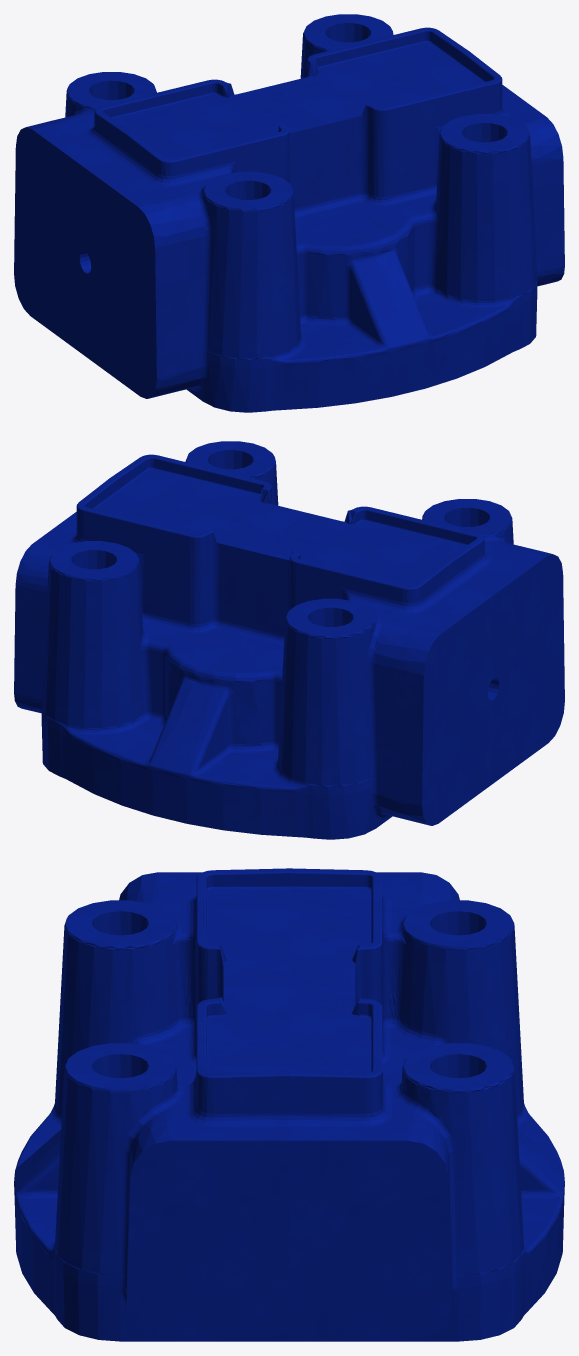
Rendered from Part_blue.glb.
3 views of the same model, one above another, from view 1: azimuth 30°, elevation 25°; view 2: azimuth 150°, elevation 25°; view 3: azimuth 270°, elevation 25° (orthographic). The views are drawn at different scales.
Size of the model in its own units: 0.0613 by 0.031 by 0.0571.
1 material, 1 textured.
